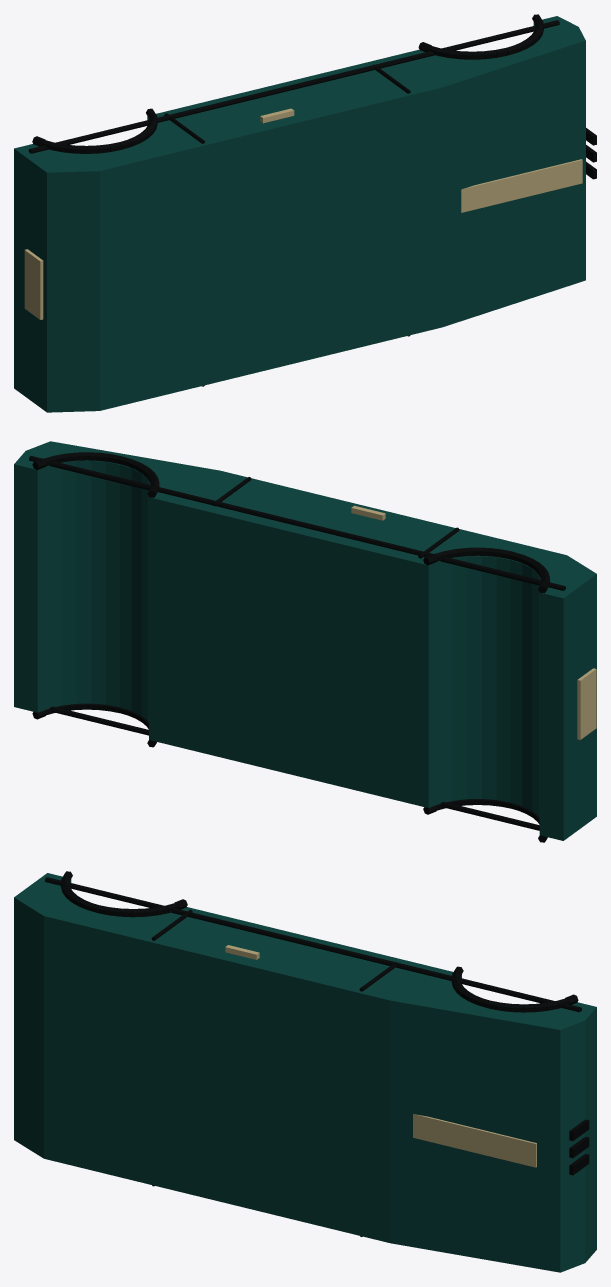
The model's file is CarShell.obj.
3 renders of one model, top to bottom at view 1: azimuth 30°, elevation 25°; view 2: azimuth 150°, elevation 25°; view 3: azimuth 330°, elevation 25°, orthographic.
Visible parts, largest first — view 1: CarShell; view 2: CarShell; view 3: CarShell.
Boxes of the visible parts, x1,y1,x2,y2 form: CarShell: [14, 14, 596, 412]; CarShell: [14, 441, 596, 842]; CarShell: [14, 871, 596, 1272].
Bounding box in the file's own units: 445 × 195 × 62.51.
